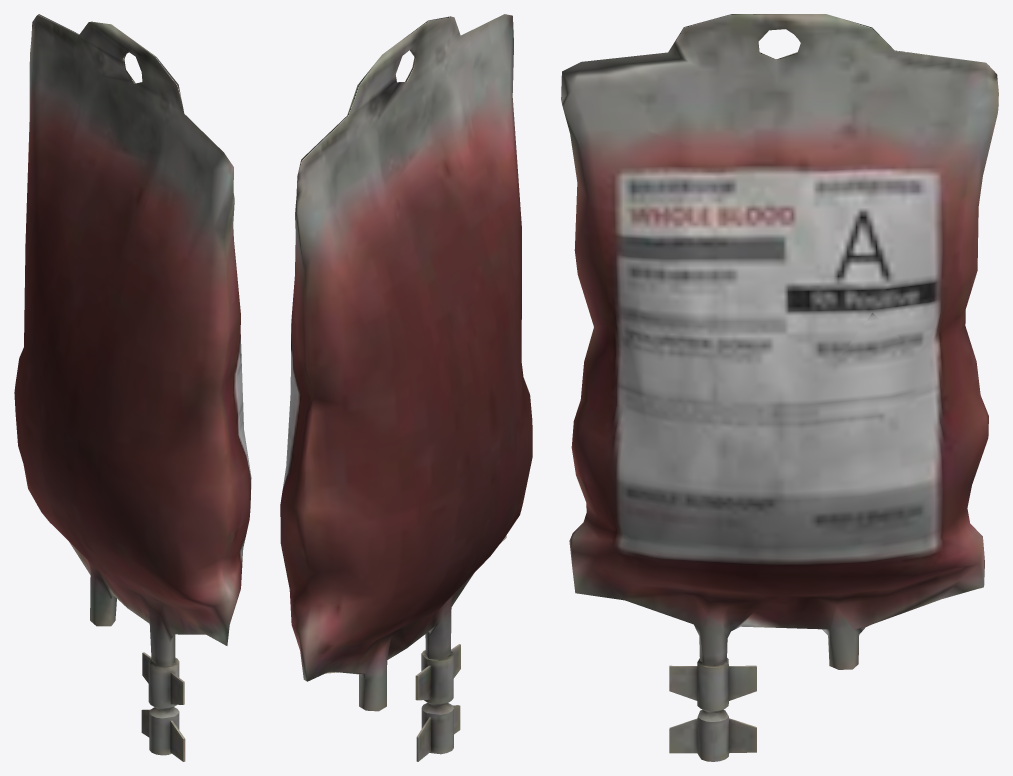
Rendered from blood_bag.glb.
3 renders of one model, left to right at view 1: azimuth 30°, elevation 25°; view 2: azimuth 150°, elevation 25°; view 3: azimuth 270°, elevation 25°, orthographic. The views are drawn at different scales.
Visible parts, largest first — view 1: blood_bag; view 2: blood_bag; view 3: blood_bag.
Boxes of the visible parts, x1=… form: blood_bag: x1=14, y1=14, x2=251, y2=761; blood_bag: x1=280, y1=14, x2=532, y2=761; blood_bag: x1=561, y1=14, x2=998, y2=761.
Bounding box in the file's own units: 0.0982 × 0.4337 × 0.2323.
1 material, 1 textured.
